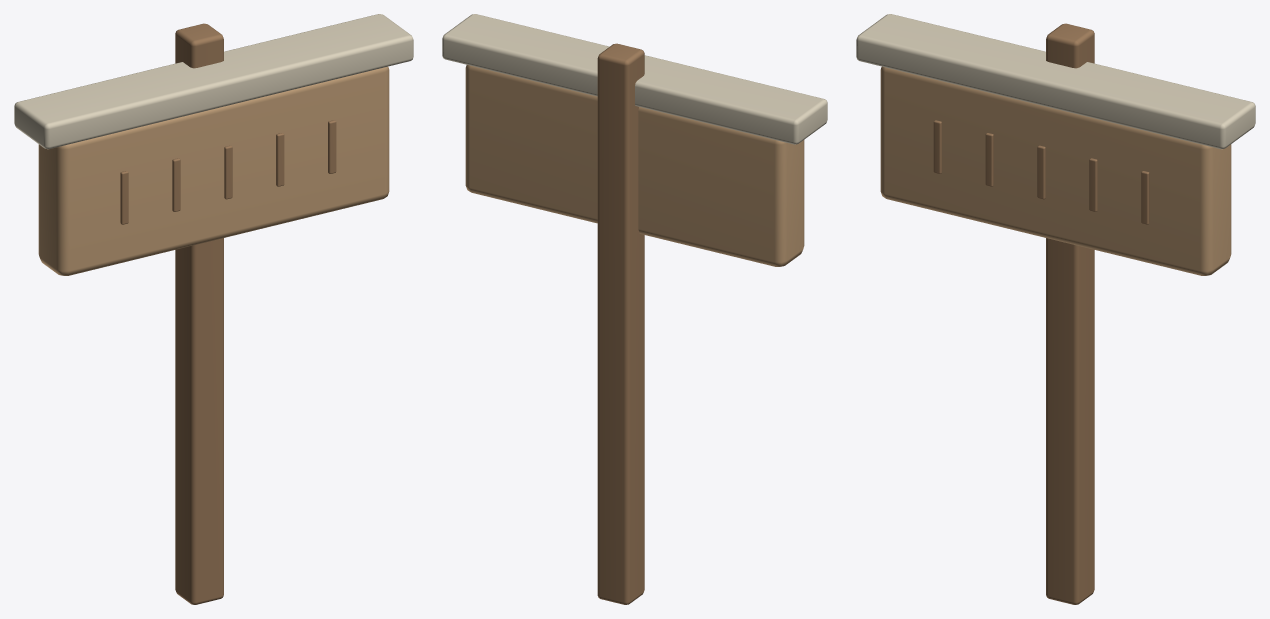
File: SM_Signpost_01.fbx
3 views of the same model, side by side, from view 1: azimuth 30°, elevation 25°; view 2: azimuth 150°, elevation 25°; view 3: azimuth 330°, elevation 25° (orthographic). The views are drawn at different scales.
Parts seen in each view (by area): view 1: SM_Signpost_01; view 2: SM_Signpost_01; view 3: SM_Signpost_01.
Boxes of the visible parts, x1,y1,x2,y2 form: SM_Signpost_01: (14,14,413,604); SM_Signpost_01: (442,14,827,604); SM_Signpost_01: (856,14,1255,604).
Size of the model in its own units: 1.78 by 2.6 by 0.34.
